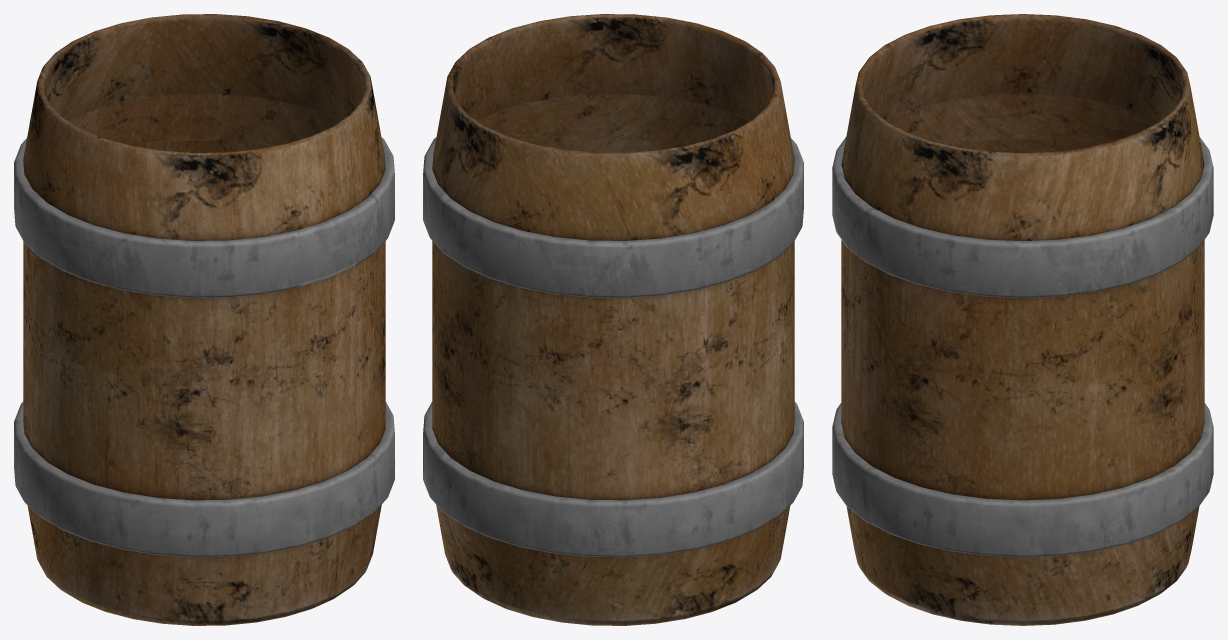
File: BarrelUnity.fbx
3 renders of one model, left to right at view 1: azimuth 30°, elevation 25°; view 2: azimuth 150°, elevation 25°; view 3: azimuth 270°, elevation 25°, orthographic.
Visible parts, largest first — view 1: Окружность.012; view 2: Окружность.012; view 3: Окружность.012.
Boxes of the visible parts, box(x1,y1,x2,y2) form: Окружность.012: box(14, 14, 394, 625); Окружность.012: box(423, 14, 803, 625); Окружность.012: box(832, 14, 1213, 625).
Size of the model in its own units: 262 by 361 by 263.
